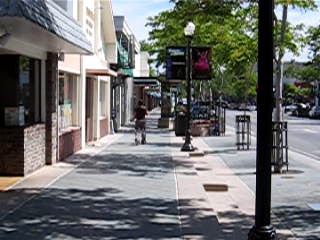person: (134, 100, 149, 147), (133, 100, 148, 147), (135, 100, 150, 147), (134, 99, 149, 146), (134, 101, 149, 148)
target_negative: (120, 31, 311, 73), (269, 121, 289, 187), (277, 143, 307, 184), (313, 121, 316, 152), (255, 17, 257, 38)
